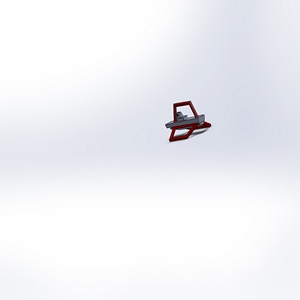submarine: (152, 95, 223, 161)
